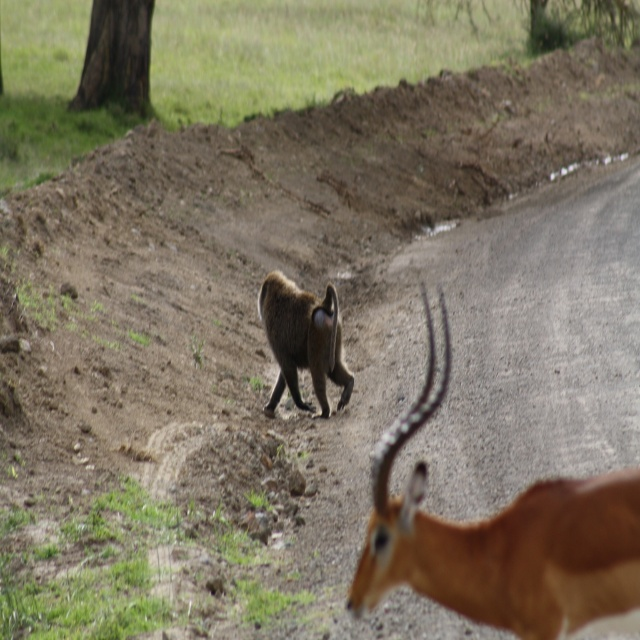Monkey: (262, 273, 360, 430)
